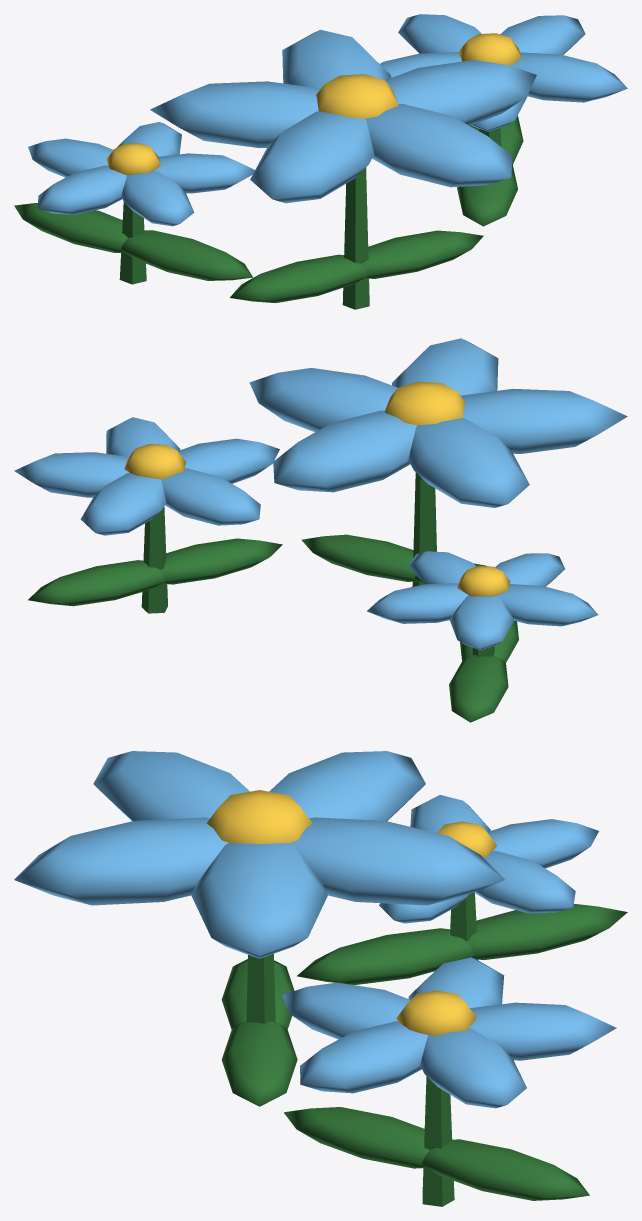
3 renders of one model, top to bottom at view 1: azimuth 30°, elevation 25°; view 2: azimuth 150°, elevation 25°; view 3: azimuth 270°, elevation 25°, orthographic. The views are drawn at different scales.
Parts seen in each view (by area): view 1: flower-chunky-blue; view 2: flower-chunky-blue; view 3: flower-chunky-blue.
Part boxes in pixels (x1,y1,x2,y2): flower-chunky-blue: [14, 14, 627, 309]; flower-chunky-blue: [14, 338, 627, 722]; flower-chunky-blue: [14, 751, 627, 1206].
Bounding box in the file's own units: 1.61 × 0.605 × 1.21.
